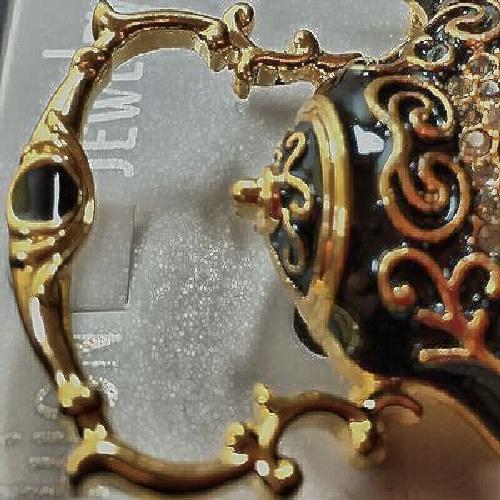kettle: (261, 48, 482, 449)
